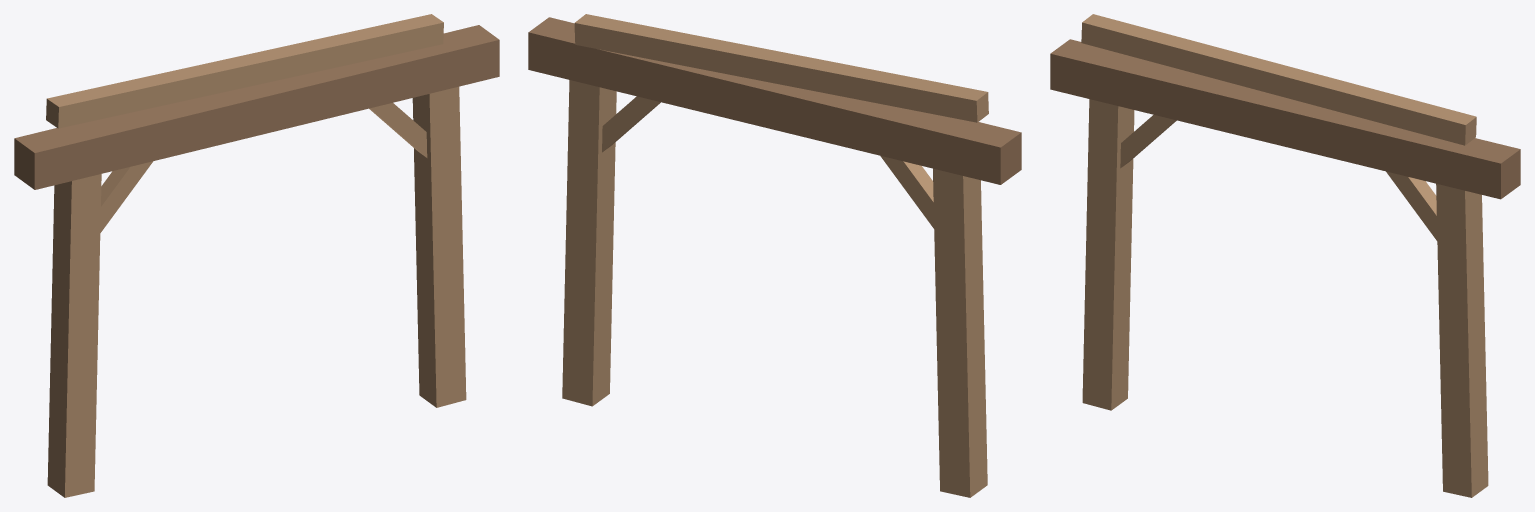
File: Cave_EntranceFrame.fbx
3 renders of one model, left to right at view 1: azimuth 30°, elevation 25°; view 2: azimuth 150°, elevation 25°; view 3: azimuth 330°, elevation 25°, orthographic. The views are drawn at different scales.
Visible parts, largest first — view 1: Cave_EntranceFrame; view 2: Cave_EntranceFrame; view 3: Cave_EntranceFrame.
Boxes of the visible parts, <box> form: Cave_EntranceFrame: <box>14,14,499,497</box>; Cave_EntranceFrame: <box>528,14,1021,497</box>; Cave_EntranceFrame: <box>1050,14,1520,497</box>.
Bounding box in the file's own units: 5 × 4.01 × 0.4001.
